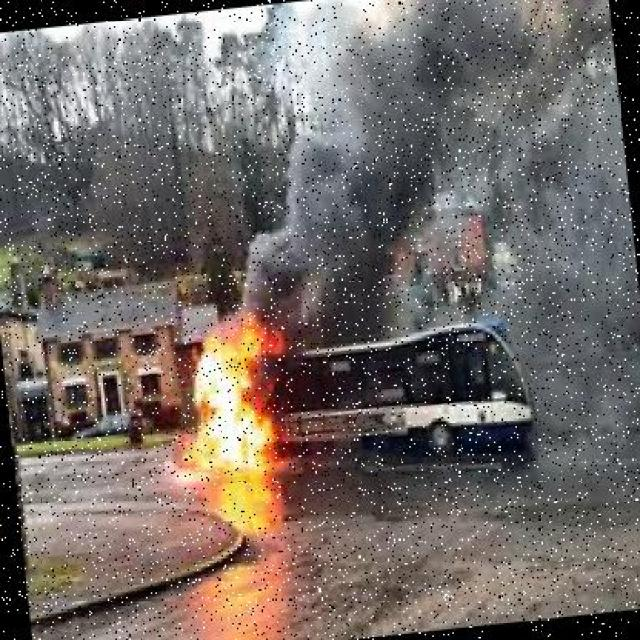fire: (152, 308, 308, 489)
